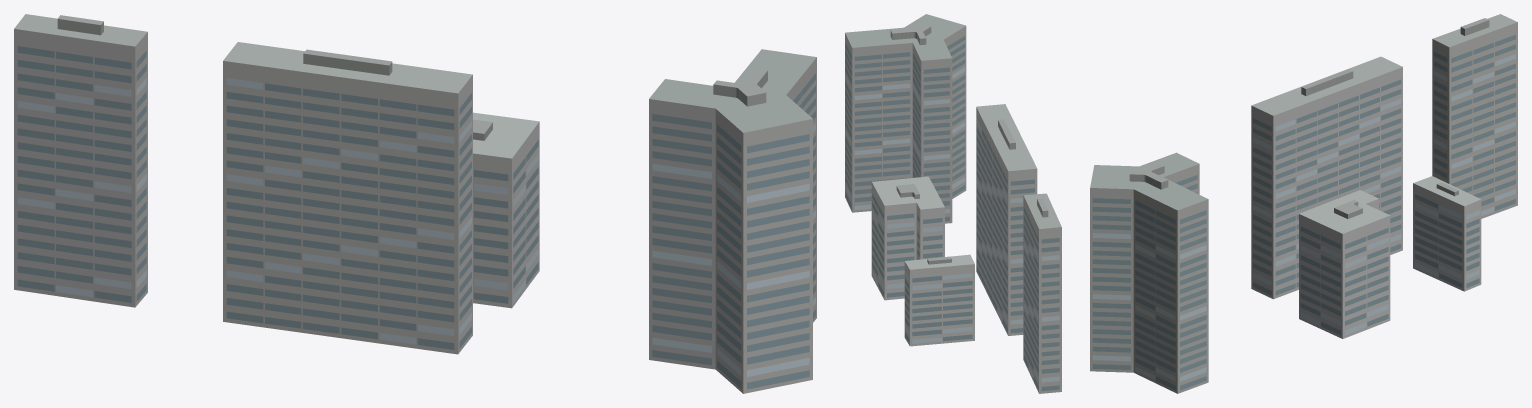
Rendered from apt-a10026940.glb.
The picture shows the model from 3 angles, left to right: view 1: azimuth 30°, elevation 25°; view 2: azimuth 150°, elevation 25°; view 3: azimuth 270°, elevation 25°; orthographic projection. The views are drawn at different scales.
Visible parts, largest first — view 1: apt-a10026940; view 2: apt-a10026940; view 3: apt-a10026940.
Boxes of the visible parts, x1,y1,x2,y2 form: apt-a10026940: (14, 14, 816, 393); apt-a10026940: (845, 14, 1061, 393); apt-a10026940: (1090, 14, 1517, 393).
Bounding box in the file's own units: 142 × 64 × 130.
